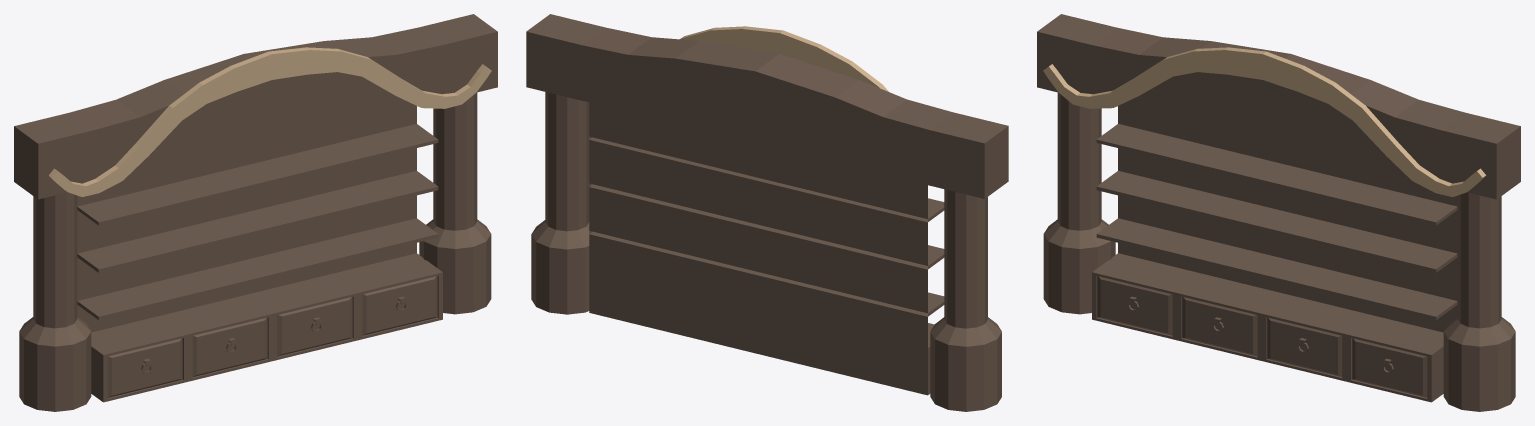
Rendered from bar.fbx.
The picture shows the model from 3 angles, left to right: view 1: azimuth 30°, elevation 25°; view 2: azimuth 150°, elevation 25°; view 3: azimuth 330°, elevation 25°; orthographic projection.
Parts seen in each view (by area): view 1: Cube, Cube.001, Cylinder, Plane; view 2: Cube, Cube.001, Cylinder, Plane; view 3: Cube, Cube.001, Cylinder, Plane.
Part boxes in pixels (x1,y1,x2,y2): Cube: [77, 106, 442, 402]; Cube.001: [14, 14, 497, 199]; Cylinder: [19, 92, 491, 411]; Plane: [49, 47, 491, 196]; Cube: [589, 102, 944, 395]; Cube.001: [526, 14, 1008, 198]; Cylinder: [531, 92, 1001, 411]; Plane: [680, 26, 888, 91]; Cube: [1092, 106, 1457, 402]; Cube.001: [1037, 14, 1520, 199]; Cylinder: [1043, 92, 1515, 411]; Plane: [1043, 47, 1485, 196].
Size of the model in its own units: 1481 by 937 by 212.
